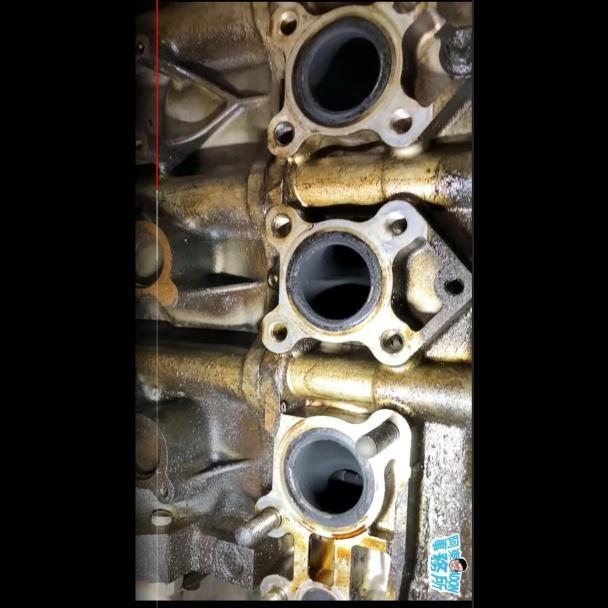hole: (387, 107, 414, 135), (381, 211, 409, 237), (378, 328, 406, 354), (270, 120, 295, 147), (275, 10, 298, 37), (270, 212, 292, 239), (267, 321, 288, 344)
